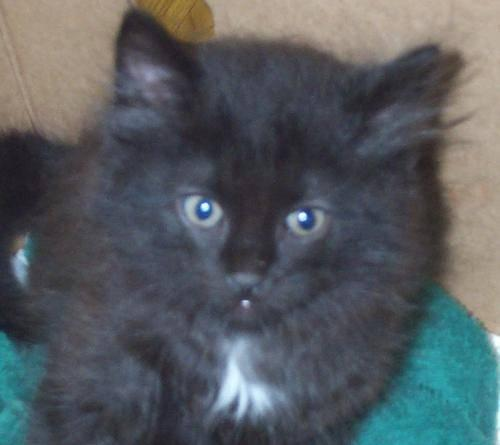cat: (27, 9, 461, 444)
